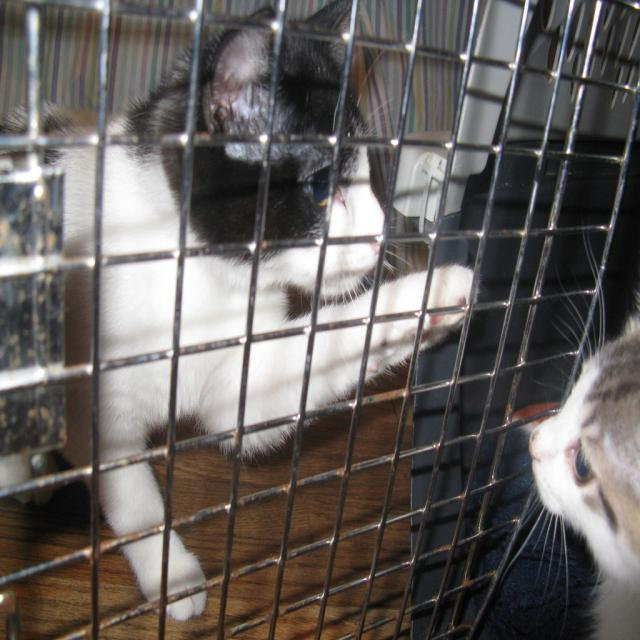Cat: (0, 0, 478, 622), (511, 221, 639, 634)
